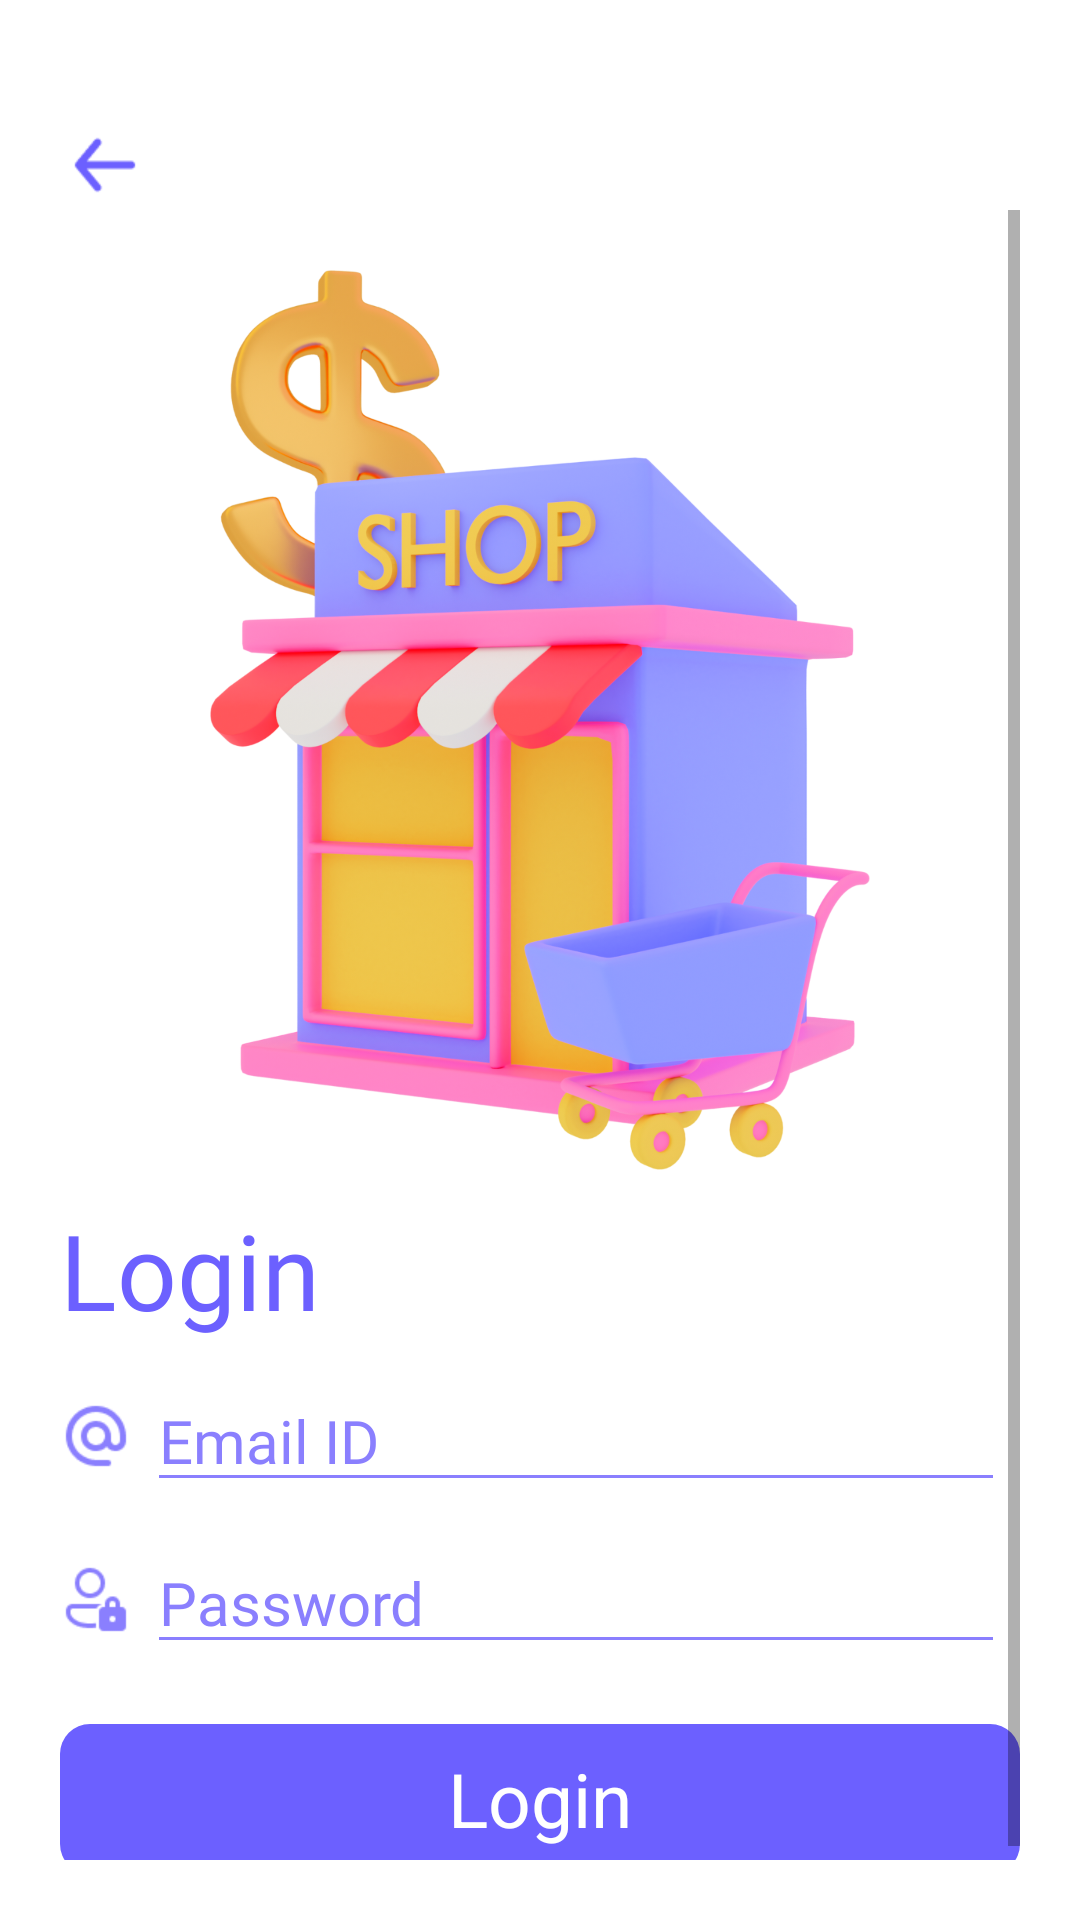

Icons on this 1080x1920 Android screen, each with the point to tap as [x,y]:
arrow back: [105,165]
